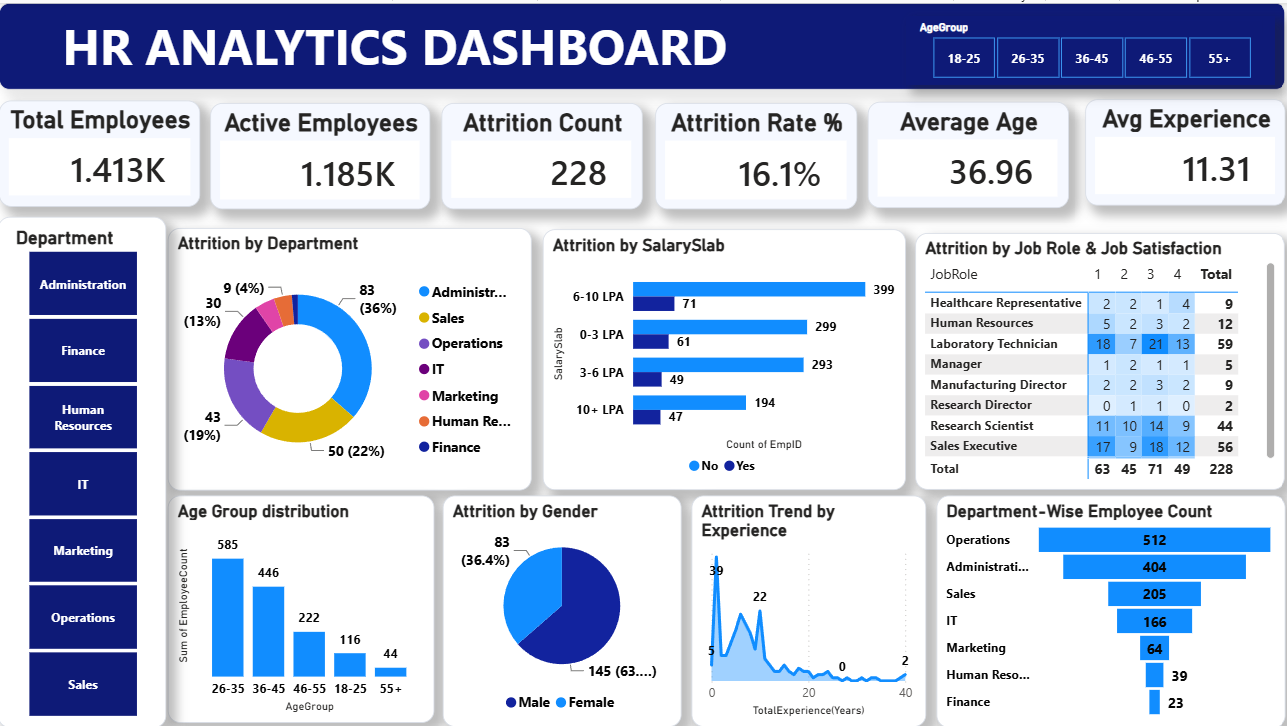

The dashboard page shown, as its layout file describes it:
{"tool":"powerbi","page":{"name":"Page 1","canvas":[1280,720],"ordinal":0},"visuals":[{"type":"textbox","box":[10,0,1259,85],"z":0},{"type":"cardVisual","title":"Total Employees","fields":{"Data":["CountNonNull(HR_Analytics-4.EmpID)"]},"box":[10,95,197,104],"z":1000},{"type":"cardVisual","title":"Active Employees","fields":{"Data":["CountNonNull(HR_Analytics-4.EmployeeCount)"]},"box":[216.8,97.4,215.4,104.3],"z":2000},{"type":"cardVisual","title":"Attrition Count","fields":{"Data":["Sum(HR_Analytics-4.AttritionCount)"]},"box":[442.7,97.8,196.9,103.9],"z":3000},{"type":"cardVisual","title":"Attrition Rate %","fields":{"Data":["HR_Analytics-4.Attrition Rate %"]},"box":[651.8,97.4,197.6,104.3],"z":4000},{"type":"cardVisual","title":"Average Age","fields":{"Data":["Avg(HR_Analytics-4.Age)"]},"box":[859.7,96.6,196.9,103.9],"z":5000},{"type":"cardVisual","title":"Avg Experience","fields":{"Data":["Avg(HR_Analytics-4.TotalExperience(Years))"]},"box":[1072.4,94.2,196.9,103.9],"z":6000},{"type":"donutChart","title":"Attrition by Department","fields":{"Category":["HR_Analytics-4.Department"],"Y":["Sum(HR_Analytics-4.AttritionCount)"]},"box":[175.3,219.5,356.3,256.6],"z":6001},{"type":"clusteredBarChart","title":"Attrition by SalarySlab","fields":{"Category":["HR_Analytics-4.SalarySlab"],"Y":["CountNonNull(HR_Analytics-4.EmpID)"],"Series":["HR_Analytics-4.Attrition"]},"box":[541.6,220.9,354.9,255.1],"z":6002},{"type":"pivotTable","title":"Attrition by  Job Role & Job Satisfaction","fields":{"Rows":["HR_Analytics-4.JobRole"],"Values":["Sum(HR_Analytics-4.AttritionCount)"],"Columns":["HR_Analytics-4.JobSatisfaction"]},"box":[906.5,225.2,362,250.9],"z":6003},{"type":"columnChart","title":"Age Group distribution","fields":{"Category":["HR_Analytics-4.AgeGroup"],"Y":["Sum(HR_Analytics-4.EmployeeCount)"]},"box":[175.3,481.8,260.8,222.4],"z":6004},{"type":"pieChart","title":"Attrition by Gender","fields":{"Category":["HR_Analytics-4.Gender"],"Y":["Sum(HR_Analytics-4.AttritionCount)"]},"box":[443.3,481.8,233.8,226.6],"z":6005},{"type":"areaChart","title":"Attrition Trend by Experience","fields":{"Category":["HR_Analytics-4.TotalExperience(Years)"],"Y2":["Sum(HR_Analytics-4.AttritionCount)"]},"box":[687,481.8,229.5,226.6],"z":6006},{"type":"funnel","title":"Department-Wise Employee Count","fields":{"Category":["HR_Analytics-4.Department"],"Y":["CountNonNull(HR_Analytics-4.EmpID)"]},"box":[927,482,342,227],"z":6007},{"type":"slicer","fields":{"Values":["HR_Analytics-4.Department"]},"box":[9,209,165,500],"z":6008},{"type":"slicer","fields":{"Values":["HR_Analytics-4.AgeGroup"]},"box":[898,12,361,68],"z":6009}]}

Visuals, with their boxes in screenshot pixels (x1, y1, x2, y2), scaled from the page's 1280x720 canvas onto the 1287x726 screenshot:
textbox: select_region(10, 0, 1276, 86)
"Total Employees" cardVisual: select_region(10, 96, 208, 201)
"Active Employees" cardVisual: select_region(218, 98, 435, 203)
"Attrition Count" cardVisual: select_region(445, 99, 643, 203)
"Attrition Rate %" cardVisual: select_region(655, 98, 854, 203)
"Average Age" cardVisual: select_region(864, 97, 1062, 202)
"Avg Experience" cardVisual: select_region(1078, 95, 1276, 200)
"Attrition by Department" donutChart: select_region(176, 221, 535, 480)
"Attrition by SalarySlab" clusteredBarChart: select_region(545, 223, 901, 480)
"Attrition by  Job Role & Job Satisfaction" pivotTable: select_region(911, 227, 1275, 480)
"Age Group distribution" columnChart: select_region(176, 486, 438, 710)
"Attrition by Gender" pieChart: select_region(446, 486, 681, 714)
"Attrition Trend by Experience" areaChart: select_region(691, 486, 922, 714)
"Department-Wise Employee Count" funnel: select_region(932, 486, 1276, 715)
slicer - HR_Analytics-4.Department: select_region(9, 211, 175, 715)
slicer - HR_Analytics-4.AgeGroup: select_region(903, 12, 1266, 81)
